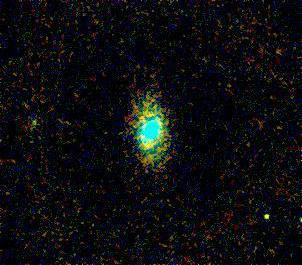star: (250, 202, 280, 232)
